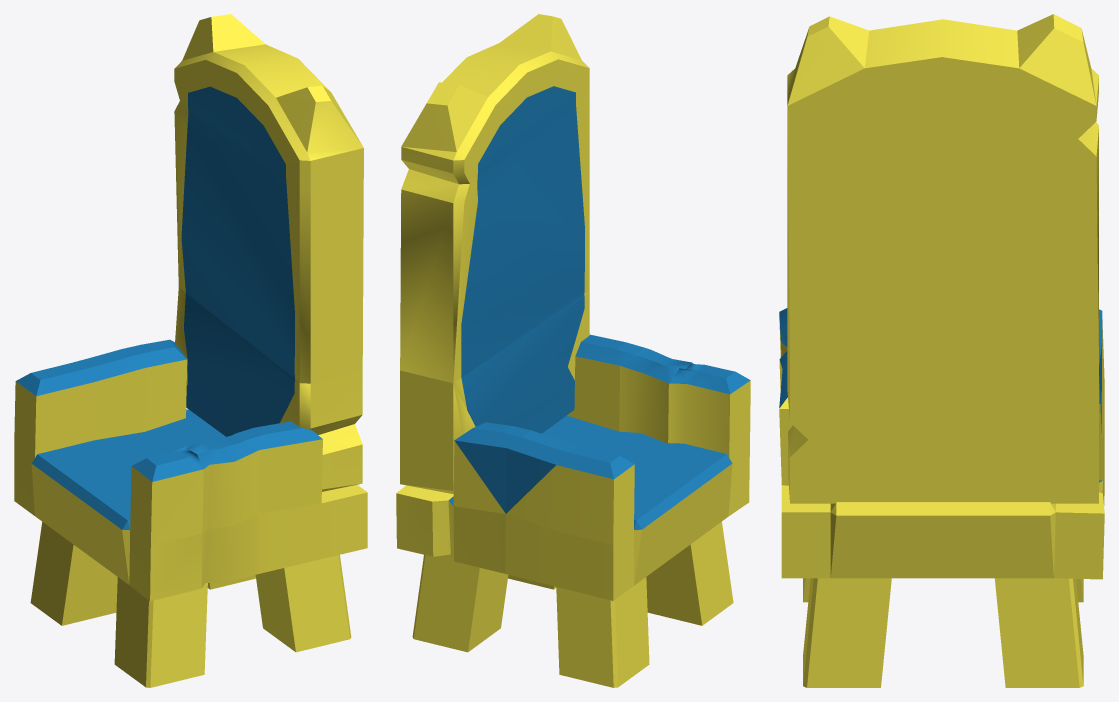
File: Throne.fbx
The picture shows the model from 3 angles, left to right: view 1: azimuth 30°, elevation 25°; view 2: azimuth 150°, elevation 25°; view 3: azimuth 270°, elevation 25°; orthographic projection. The views are drawn at different scales.
Parts seen in each view (by area): view 1: Throne.001; view 2: Throne.001; view 3: Throne.001.
Boxes of the visible parts, x1,y1,x2,y2 form: Throne.001: (14,14,367,687); Throne.001: (396,14,750,687); Throne.001: (779,14,1104,687).
Size of the model in its own units: 0.75 by 1.74 by 0.7837.
1 material, 1 textured.
